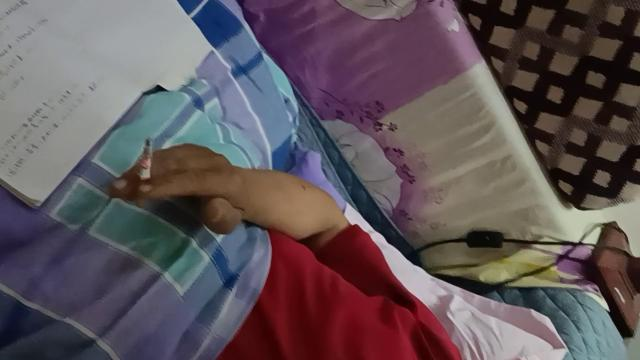Cigarette: (136, 140, 152, 209)
